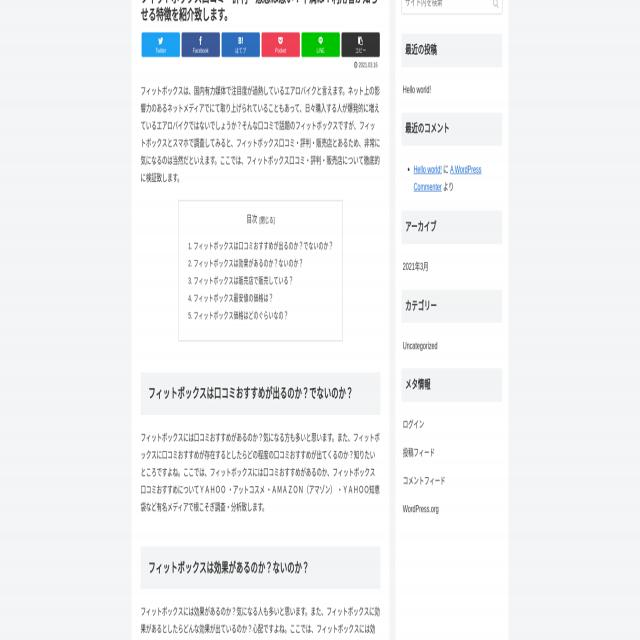button: (402, 75, 502, 104), (402, 253, 502, 281), (402, 439, 502, 467), (402, 466, 502, 494), (402, 494, 502, 522), (402, 332, 502, 359), (402, 411, 502, 438), (261, 32, 300, 58), (301, 32, 340, 58), (341, 32, 380, 58), (142, 32, 180, 58), (182, 32, 220, 58), (222, 32, 260, 58), (491, 0, 502, 16)
field: (401, 0, 502, 14)
